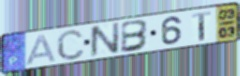6: (161, 15, 185, 47)
A: (24, 33, 58, 67)
B: (119, 19, 150, 55)
C: (55, 28, 86, 61)
N: (88, 20, 122, 59)
T: (191, 10, 212, 42)
